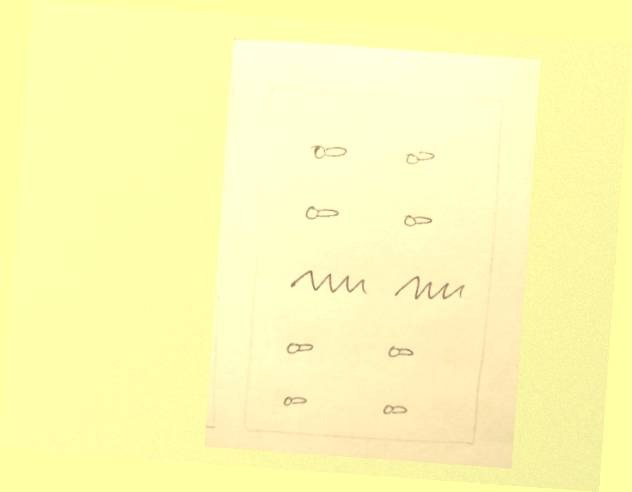switch: (301, 135, 361, 173), (391, 204, 443, 237), (398, 140, 441, 174), (278, 332, 321, 365), (372, 394, 416, 425), (301, 198, 346, 228), (380, 335, 421, 367), (272, 385, 315, 414)
text: (282, 262, 378, 309), (388, 268, 472, 311)
